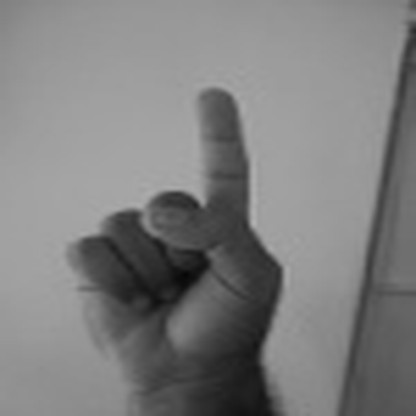d: (66, 86, 288, 370)
